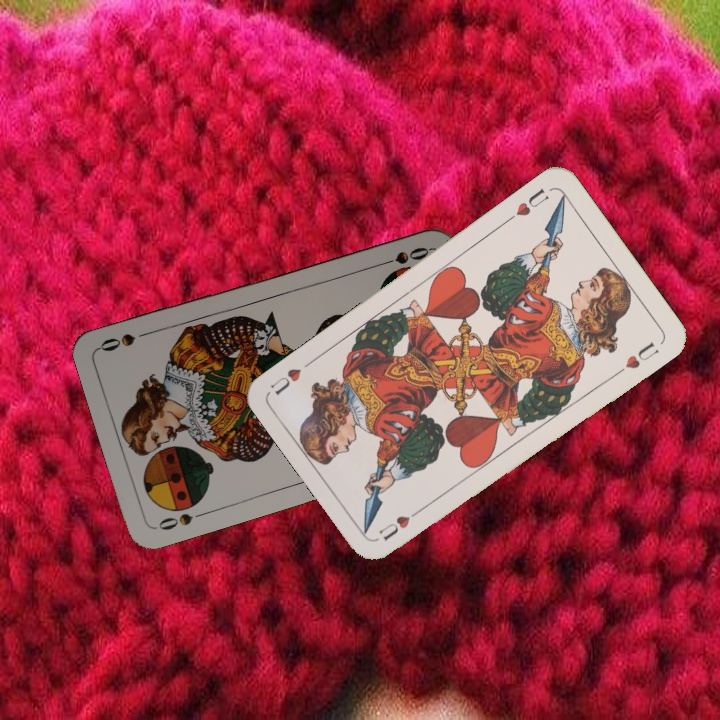HU: (374, 503, 426, 543), (503, 184, 552, 225)
SO: (374, 243, 432, 269), (151, 507, 209, 533)
